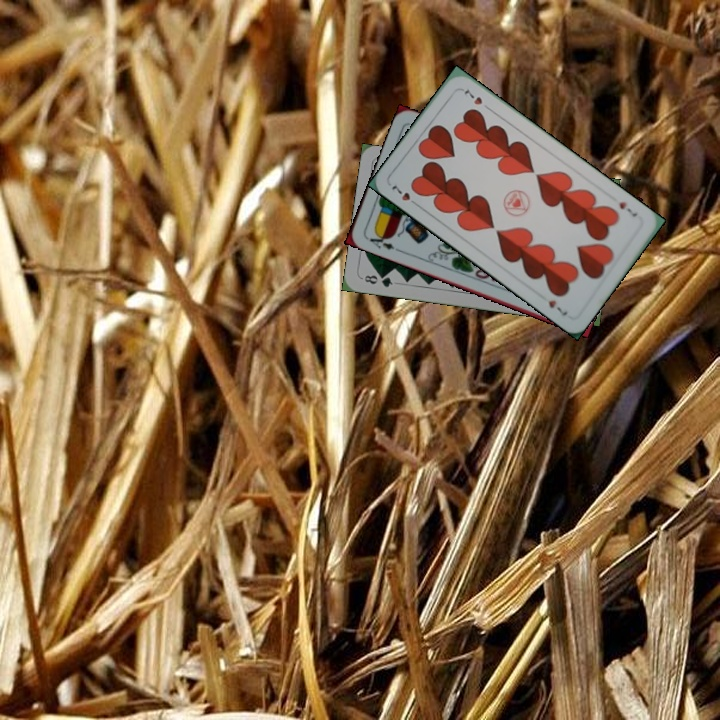EA: (363, 229, 402, 254)
G8: (358, 271, 395, 290)
H7: (387, 181, 422, 209), (615, 197, 640, 220)
